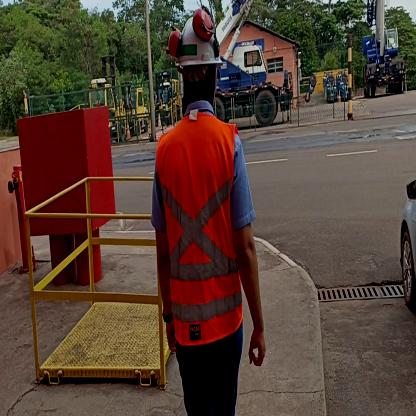Balaclava: (180, 64, 216, 108)
Capacete: (174, 11, 224, 64)
colete: (159, 115, 242, 333)
